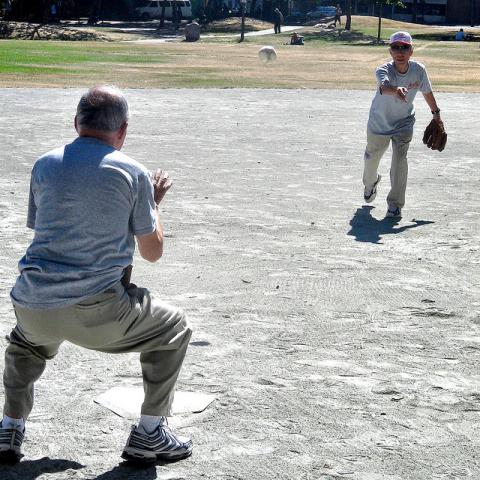car: (130, 0, 192, 21), (306, 6, 334, 19)
